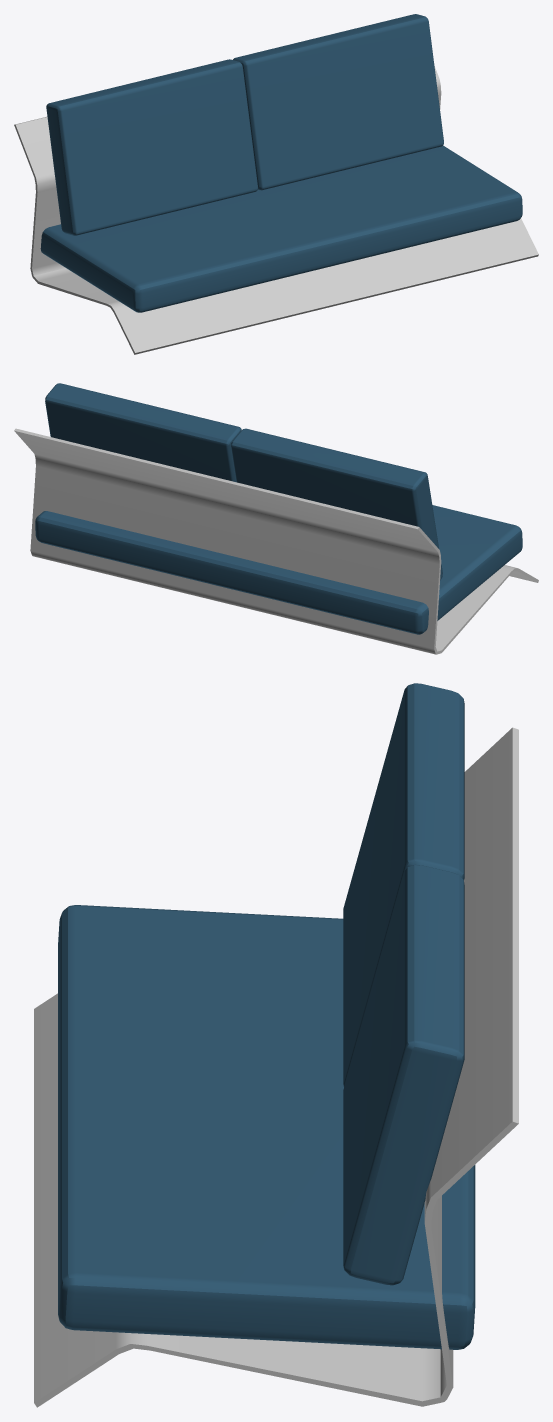
Rendered from sofa_prop.fbx.
3 views of the same model, one above another, from view 1: azimuth 30°, elevation 25°; view 2: azimuth 150°, elevation 25°; view 3: azimuth 270°, elevation 25° (orthographic). The views are drawn at different scales.
Parts seen in each view (by area): view 1: coussin_large, coussin_d, coussin_g, soutien; view 2: soutien, coussin_large, coussin_d, coussin_g; view 3: coussin_large, soutien, coussin_g, coussin_d.
Part boxes in pixels (x1,y1,x2,y2): coussin_large: [40, 145, 522, 312]; coussin_d: [46, 59, 257, 235]; coussin_g: [233, 14, 443, 190]; soutien: [14, 66, 538, 354]; soutien: [14, 428, 538, 654]; coussin_large: [35, 505, 522, 634]; coussin_d: [231, 428, 442, 580]; coussin_g: [45, 383, 241, 482]; coussin_large: [58, 905, 475, 1349]; soutien: [34, 727, 518, 1407]; coussin_g: [343, 864, 464, 1285]; coussin_d: [343, 683, 464, 1086].
Size of the model in its own units: 0.1507 by 0.0623 by 0.0784.
